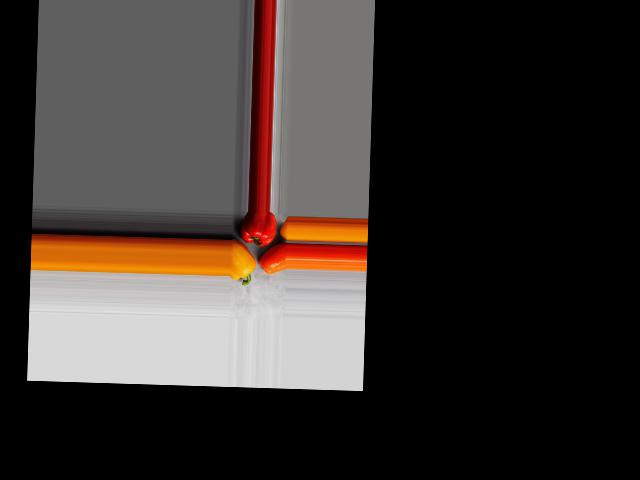bell_pepper: (237, 211, 276, 245)
